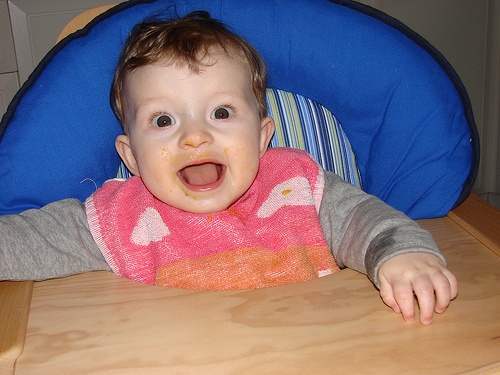head: (112, 13, 277, 216)
person: (1, 7, 477, 323)
